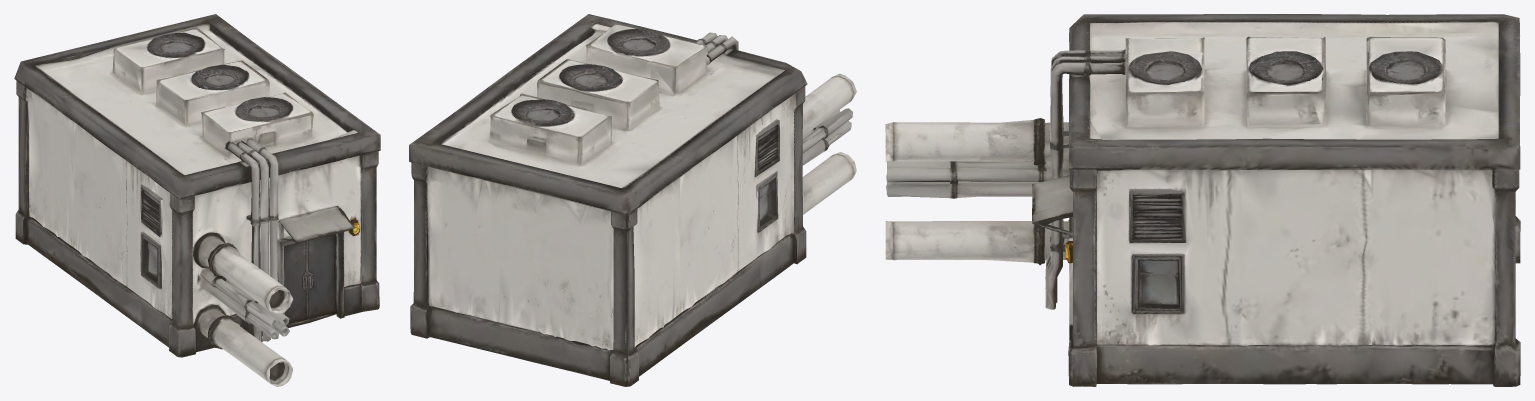
Rendered from plantHouse.glb.
3 views of the same model, side by side, from view 1: azimuth 30°, elevation 25°; view 2: azimuth 150°, elevation 25°; view 3: azimuth 270°, elevation 25° (orthographic). The views are drawn at different scales.
Parts seen in each view (by area): view 1: plantHouse; view 2: plantHouse; view 3: plantHouse.
Part boxes in pixels (box(x1,y1,x2,y2)): plantHouse: box(14, 14, 380, 386); plantHouse: box(409, 14, 856, 386); plantHouse: box(885, 14, 1520, 386).
Bounding box in the file's own units: 8.5 × 7.8 × 16.88.
1 material, 1 textured.
